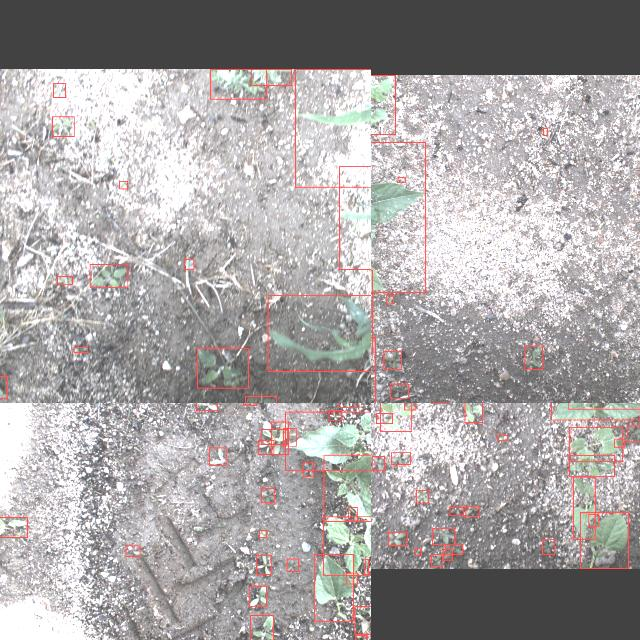crop: (295, 68, 371, 186), (371, 142, 426, 292), (268, 295, 371, 371), (285, 410, 371, 469), (340, 165, 371, 268), (323, 454, 371, 520), (323, 515, 371, 574), (580, 512, 628, 568), (314, 554, 354, 620), (570, 426, 622, 462), (371, 74, 396, 133), (551, 403, 640, 419), (573, 476, 595, 540)
weed: (198, 348, 248, 388), (210, 68, 266, 98), (570, 454, 614, 476), (380, 403, 411, 431), (90, 264, 128, 286), (252, 68, 292, 84), (250, 615, 273, 640), (0, 517, 27, 537), (272, 421, 288, 454), (354, 606, 371, 634), (260, 428, 288, 444), (52, 116, 74, 136), (525, 346, 543, 368), (433, 528, 455, 544), (465, 403, 483, 422), (384, 351, 402, 369), (208, 447, 226, 465), (250, 586, 266, 606), (256, 554, 272, 574), (388, 532, 408, 546), (390, 384, 408, 398), (245, 395, 276, 403), (392, 452, 411, 464), (258, 440, 274, 454), (626, 425, 640, 441), (284, 427, 296, 445), (53, 83, 65, 97), (262, 488, 274, 502), (302, 462, 314, 476), (287, 558, 299, 572), (372, 456, 384, 470), (542, 540, 554, 554), (0, 375, 7, 398), (376, 413, 392, 423), (446, 544, 462, 554), (463, 506, 479, 516), (416, 490, 428, 502), (126, 546, 140, 556), (328, 410, 342, 420), (348, 507, 358, 521), (347, 572, 358, 584), (450, 507, 466, 515), (196, 403, 217, 409), (184, 258, 194, 270), (432, 554, 442, 566), (443, 548, 453, 560), (589, 514, 599, 526), (58, 276, 72, 284), (74, 347, 88, 353), (614, 438, 624, 446), (404, 403, 415, 409), (120, 180, 128, 188), (386, 295, 394, 303), (365, 559, 369, 575), (497, 434, 507, 440), (355, 635, 366, 640), (260, 530, 266, 538), (398, 176, 404, 182), (542, 128, 548, 134), (415, 548, 421, 554)
